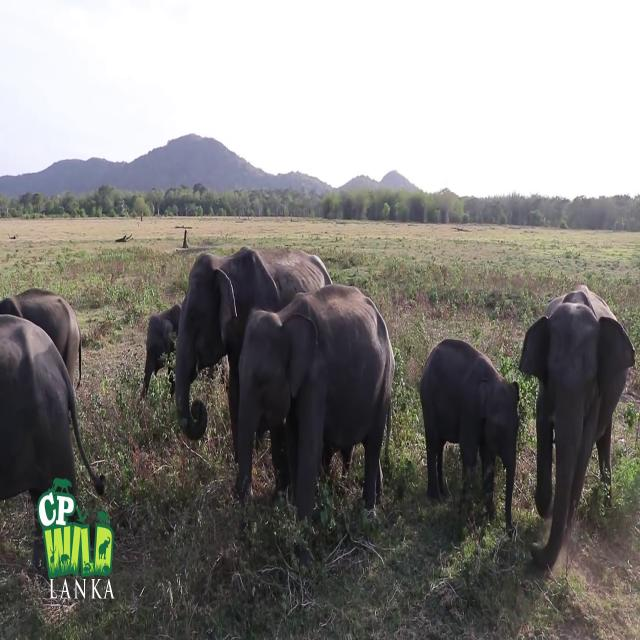Elephant: (235, 282, 395, 570), (173, 245, 333, 467), (518, 284, 636, 572), (0, 312, 105, 572), (419, 337, 520, 537), (0, 287, 82, 391), (140, 303, 182, 401)
